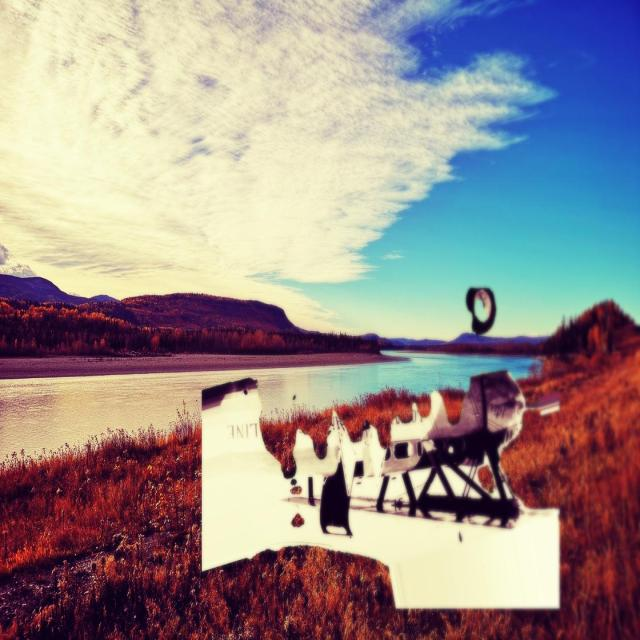airplane: (201, 371, 559, 606)
